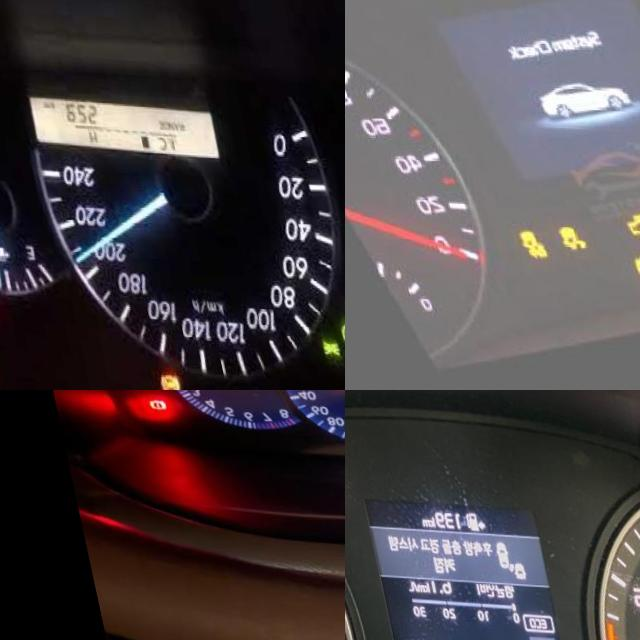Seat Belt: (631, 200, 640, 235)
